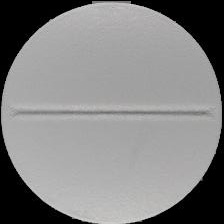50436-0170: (0, 0, 224, 224)
